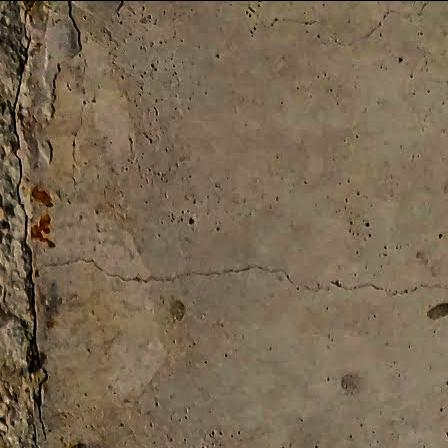crack: (6, 0, 53, 444), (42, 253, 447, 299), (322, 0, 435, 54), (58, 85, 100, 204)
